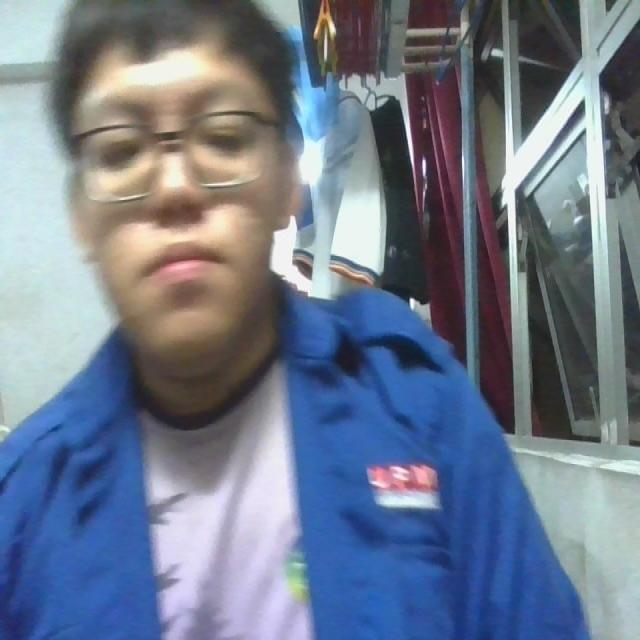person_with_labcoat: (0, 0, 587, 639), (279, 291, 588, 639)
